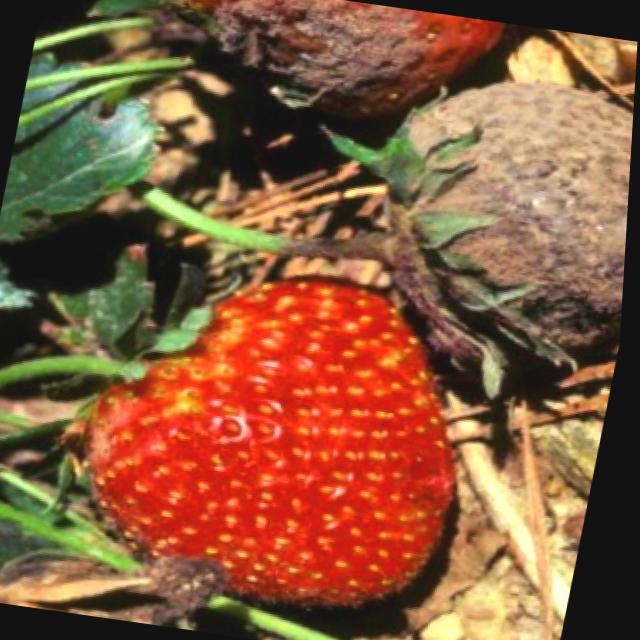Gray Mold: (311, 79, 635, 397), (164, 0, 469, 117)
